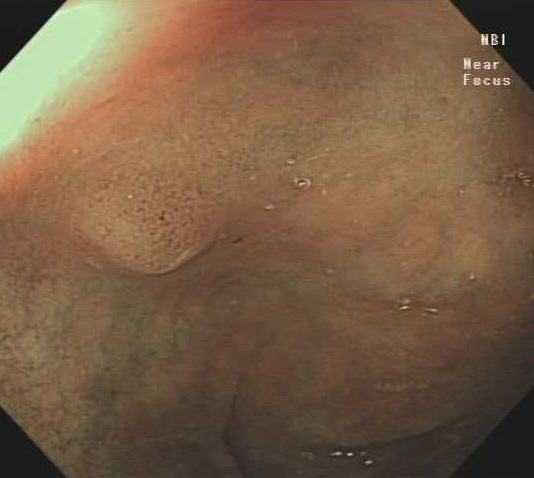adenoma: (59, 170, 225, 277)
